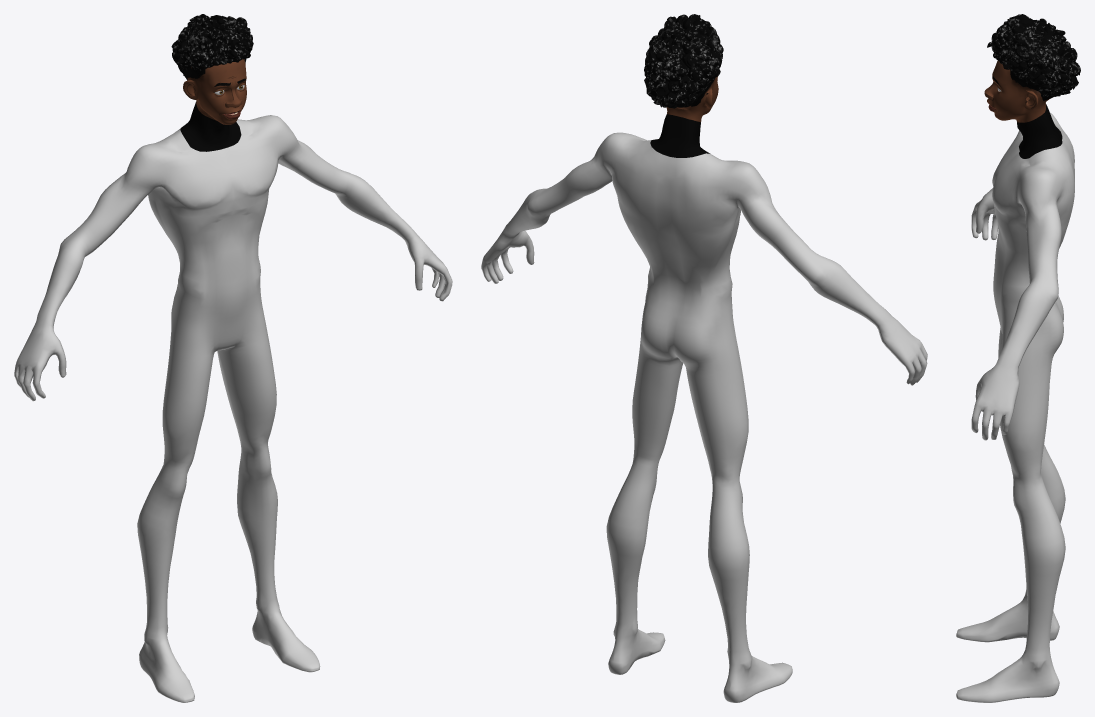
File: MILES_EXP.fbx
3 views of the same model, side by side, from view 1: azimuth 30°, elevation 25°; view 2: azimuth 150°, elevation 25°; view 3: azimuth 270°, elevation 25° (orthographic).
Parts seen in each view (by area): view 1: BODY1, MILES_LEFT; view 2: BODY1, MILES_LEFT; view 3: BODY1, MILES_LEFT.
Part boxes in pixels (x1,y1,x2,y2): BODY1: [14, 115, 452, 702]; MILES_LEFT: [171, 14, 253, 151]; BODY1: [481, 132, 927, 702]; MILES_LEFT: [644, 14, 723, 157]; BODY1: [956, 112, 1074, 702]; MILES_LEFT: [984, 14, 1080, 158].
Bounding box in the file's own units: 119 × 172 × 30.
